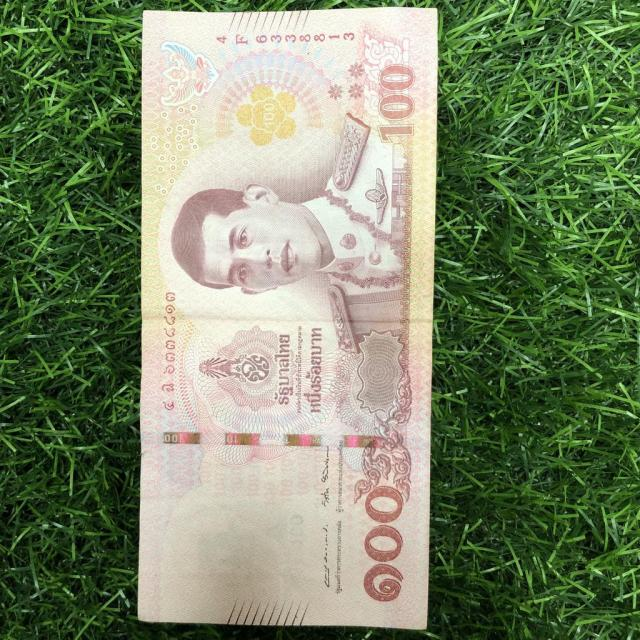THAI100: (139, 9, 438, 628)
